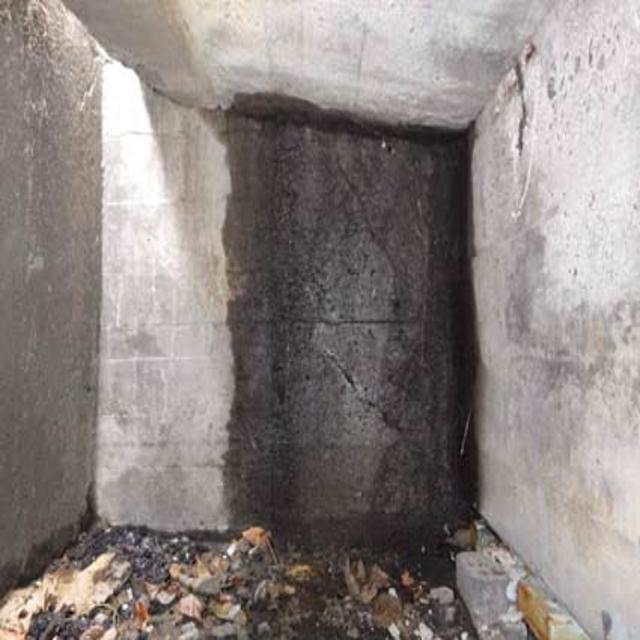leakage: (210, 64, 486, 556)
